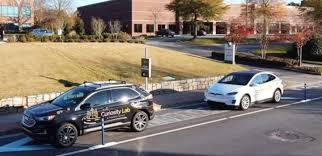car: (21, 78, 156, 149), (204, 70, 285, 113)
